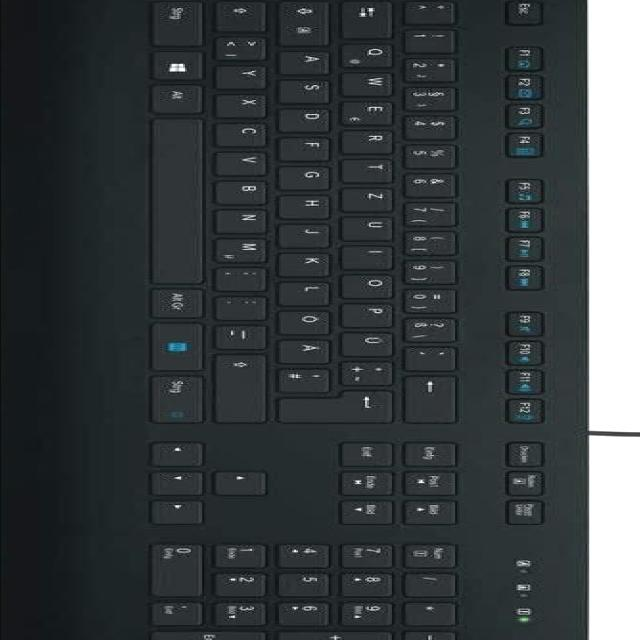0: (408, 286, 464, 312)
1: (408, 27, 462, 51)
2: (408, 54, 462, 80)
3: (408, 83, 464, 109)
4: (408, 112, 464, 138)
5: (408, 141, 464, 167)
6: (408, 170, 462, 196)
7: (408, 199, 464, 225)
8: (408, 228, 464, 254)
9: (408, 257, 464, 283)
a: (282, 47, 338, 73)
accent: (408, 343, 464, 369)
ae: (282, 337, 340, 361)
alt-left: (155, 81, 209, 111)
altgr-right: (155, 284, 211, 316)
b: (220, 177, 274, 203)
c: (220, 119, 274, 145)
caret: (408, 0, 460, 21)
comma: (218, 264, 274, 290)
d: (282, 106, 338, 130)
del: (410, 373, 464, 421)
e: (345, 99, 403, 123)
enter: (284, 388, 401, 420)
f: (284, 135, 338, 159)
g: (284, 164, 338, 188)
h: (284, 193, 338, 217)
hash: (282, 365, 340, 391)
i: (347, 242, 401, 268)
j: (284, 221, 338, 245)
k: (284, 250, 338, 274)
keyboard: (113, 0, 587, 640)
l: (284, 279, 338, 303)
less: (218, 33, 274, 59)
m: (218, 235, 274, 261)
minus: (218, 322, 274, 348)
n: (220, 207, 274, 231)
o: (345, 271, 401, 297)
oe: (282, 307, 338, 333)
p: (345, 300, 401, 326)
plus: (345, 358, 401, 384)
point: (220, 293, 274, 319)
q: (345, 40, 401, 66)
r: (345, 126, 401, 152)
s: (282, 77, 338, 101)
shift-left: (219, 0, 273, 29)
shift-lock: (282, 1, 336, 45)
shift-right: (218, 352, 274, 420)
space: (153, 116, 211, 282)
ss: (408, 314, 464, 340)
strg-left: (155, 1, 211, 45)
strg-right: (155, 371, 211, 423)
t: (345, 156, 401, 180)
tab: (345, 0, 401, 35)
u: (345, 213, 401, 239)
ue: (345, 328, 403, 354)
v: (220, 150, 274, 174)
w: (345, 70, 403, 94)
x: (220, 92, 274, 116)
y: (220, 63, 272, 87)
z: (345, 184, 401, 210)
